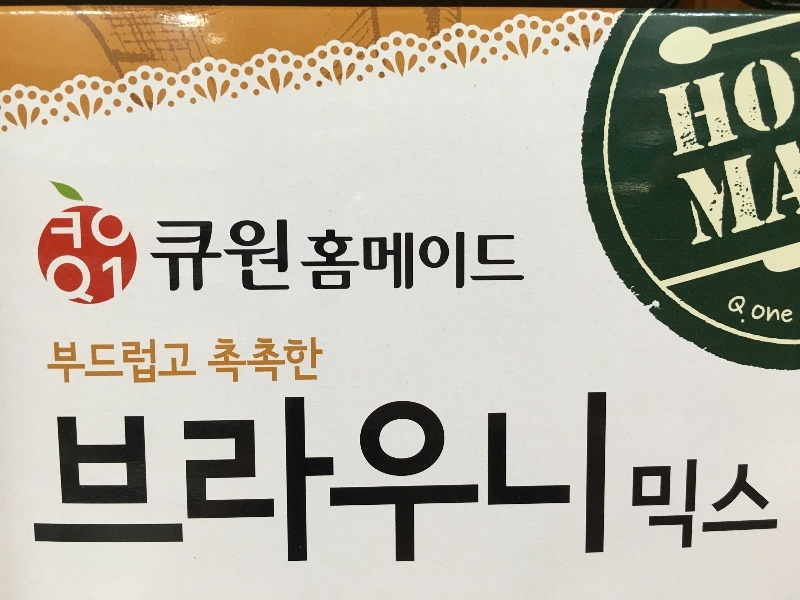text: (33, 374, 48, 571), (49, 374, 64, 571), (65, 374, 80, 571), (81, 374, 96, 571), (97, 374, 112, 571), (113, 374, 128, 571), (129, 374, 144, 571), (145, 374, 160, 571), (161, 374, 176, 571), (177, 374, 192, 571), (193, 374, 208, 571), (209, 374, 224, 571), (225, 374, 240, 571), (241, 374, 256, 571), (257, 374, 272, 571), (273, 374, 288, 571), (289, 374, 304, 571), (305, 374, 320, 571), (321, 374, 336, 571), (337, 374, 352, 571), (353, 374, 368, 571), (369, 374, 384, 571), (385, 374, 400, 571), (401, 374, 416, 571), (417, 374, 432, 571), (433, 374, 448, 571), (449, 374, 464, 571), (465, 374, 480, 571), (481, 374, 496, 571), (497, 374, 512, 571), (513, 374, 528, 571), (529, 374, 544, 571), (545, 374, 560, 571), (561, 374, 576, 571), (577, 374, 592, 571), (593, 374, 608, 571), (20, 374, 32, 571), (689, 140, 704, 246), (705, 140, 720, 246), (721, 140, 736, 246), (737, 140, 752, 246), (753, 140, 768, 246), (769, 140, 784, 246), (785, 140, 800, 246), (657, 52, 672, 158), (673, 52, 688, 158), (689, 52, 704, 158), (705, 52, 720, 158), (721, 52, 736, 158), (737, 52, 752, 158), (753, 52, 768, 158), (769, 52, 784, 158), (641, 457, 656, 556), (657, 457, 672, 556), (673, 457, 688, 556), (689, 457, 704, 556), (705, 457, 720, 556), (721, 457, 736, 556), (737, 457, 752, 556), (753, 457, 768, 556), (769, 457, 784, 556), (785, 52, 799, 158), (161, 215, 176, 297), (177, 215, 192, 297), (193, 215, 208, 297), (209, 215, 224, 297), (225, 215, 240, 297), (241, 215, 256, 297), (257, 215, 272, 297), (273, 215, 288, 297), (677, 140, 688, 246), (146, 215, 160, 297), (513, 230, 529, 292), (305, 230, 320, 292), (321, 230, 336, 292), (337, 230, 352, 292), (353, 230, 368, 292), (369, 230, 384, 292), (385, 230, 400, 292), (401, 230, 416, 292), (417, 230, 432, 292), (433, 230, 448, 292), (449, 230, 464, 292), (465, 230, 480, 292), (481, 230, 496, 292), (497, 230, 512, 292), (631, 457, 640, 556), (49, 253, 64, 307), (65, 253, 80, 307), (81, 253, 96, 307), (97, 253, 112, 307), (49, 338, 64, 387), (65, 338, 80, 387), (81, 338, 96, 387), (97, 338, 112, 387), (113, 338, 128, 387), (129, 338, 144, 387), (145, 338, 160, 387), (161, 338, 176, 387), (177, 338, 192, 387), (209, 336, 224, 385), (225, 336, 240, 385), (241, 336, 256, 385), (257, 336, 272, 385), (273, 336, 288, 385), (289, 336, 304, 385), (305, 336, 320, 385), (113, 253, 126, 307), (785, 457, 791, 556), (609, 374, 612, 571), (49, 212, 64, 251), (65, 212, 80, 251), (81, 212, 96, 251), (97, 212, 112, 251), (113, 212, 128, 251), (298, 230, 304, 292), (193, 338, 200, 387), (201, 336, 208, 385), (769, 303, 784, 325), (754, 303, 768, 325), (727, 296, 736, 324), (43, 338, 48, 387), (737, 296, 745, 324), (785, 303, 794, 325), (321, 336, 325, 385), (289, 215, 291, 297), (45, 253, 48, 307), (129, 212, 131, 251)
